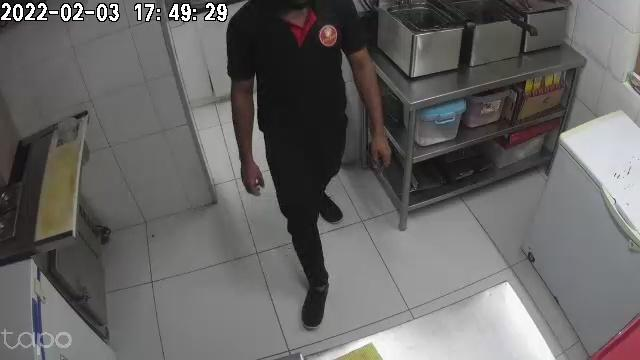no_gloves: (240, 149, 265, 195), (370, 125, 392, 170)
